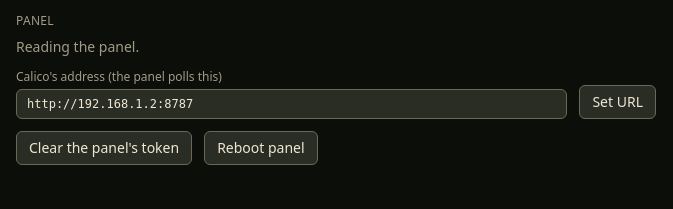
Test: Set URL keeps Settings in step › updates the saved address after the panel accepts the URL
Click the button "Set URL" at x=618, y=102, box [579,85,656,119]
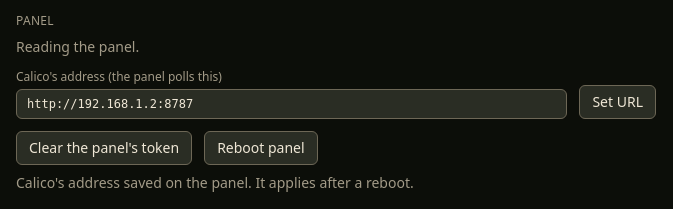
Expected: the text "Calico's address saved on the panel. It applies after a reboot." is shown, [16,173,414,192]
